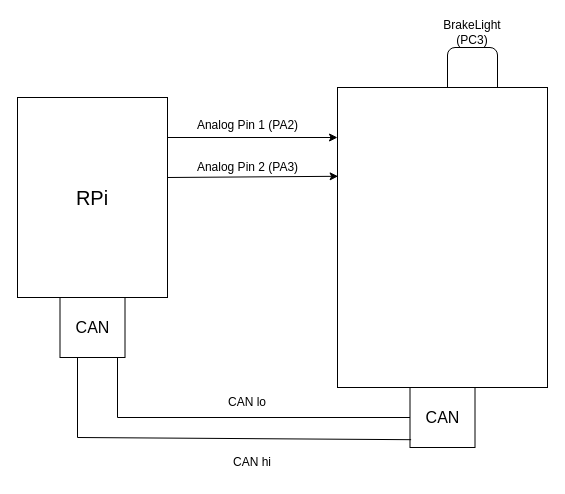
This 565x494 diagram has some shape labels left out. Here are the shapes that lost their labels. From the top down, the centre of each, then its label:
At pixel 472 77: "GPIO".
At pixel 442 237: "STM".
